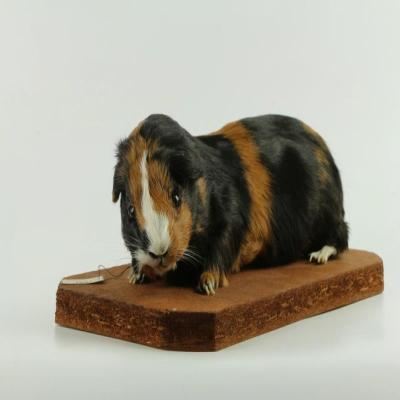natural_science_collection: (111, 114, 350, 296)
